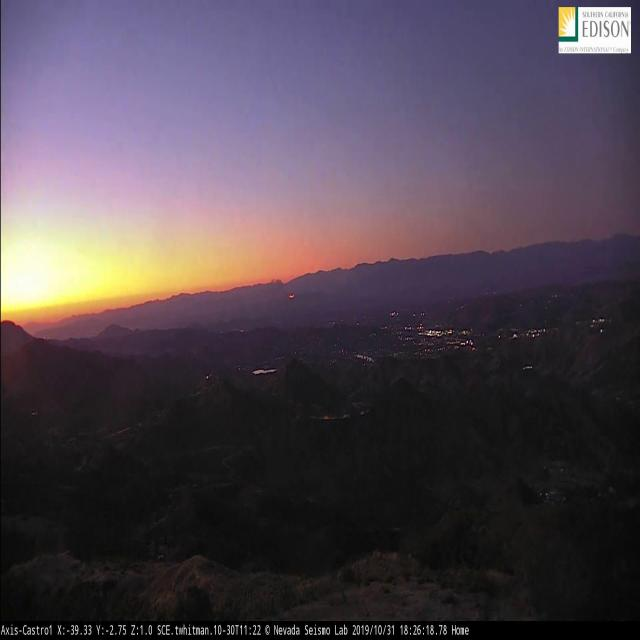smoke: (270, 277, 295, 299)
